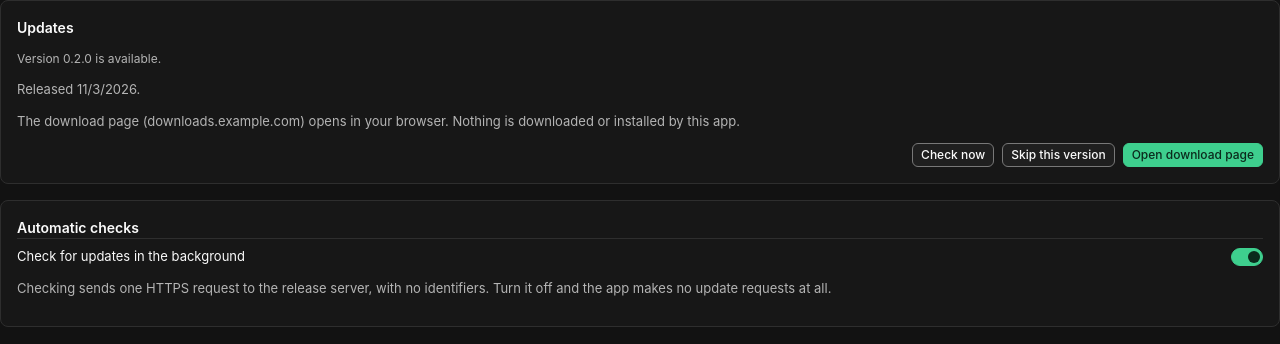
Test: Updates page › skip sends the version and the page stops offering it
Step 1. Click the button "Skip this version" → (1058, 155), box [1002,143,1115,167]
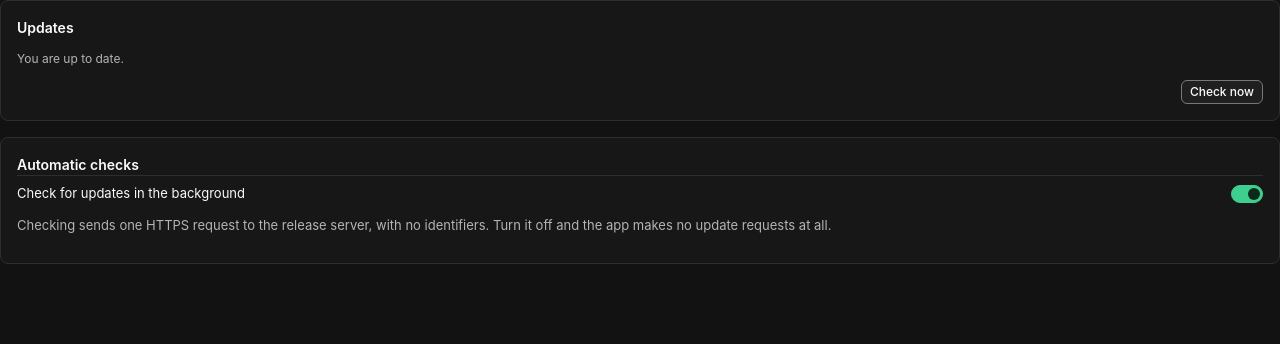
Expected: the text "You are up to date." is shown, [17,51,124,66]
Expected: the button "Open download page" is gone
